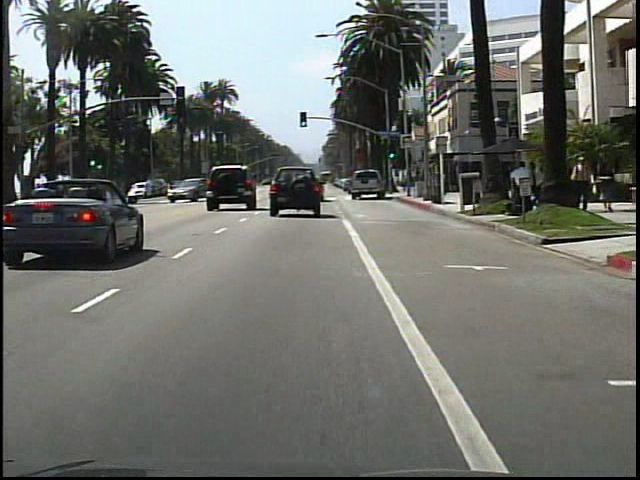person: (508, 158, 534, 217), (569, 153, 592, 213), (526, 160, 548, 218)
